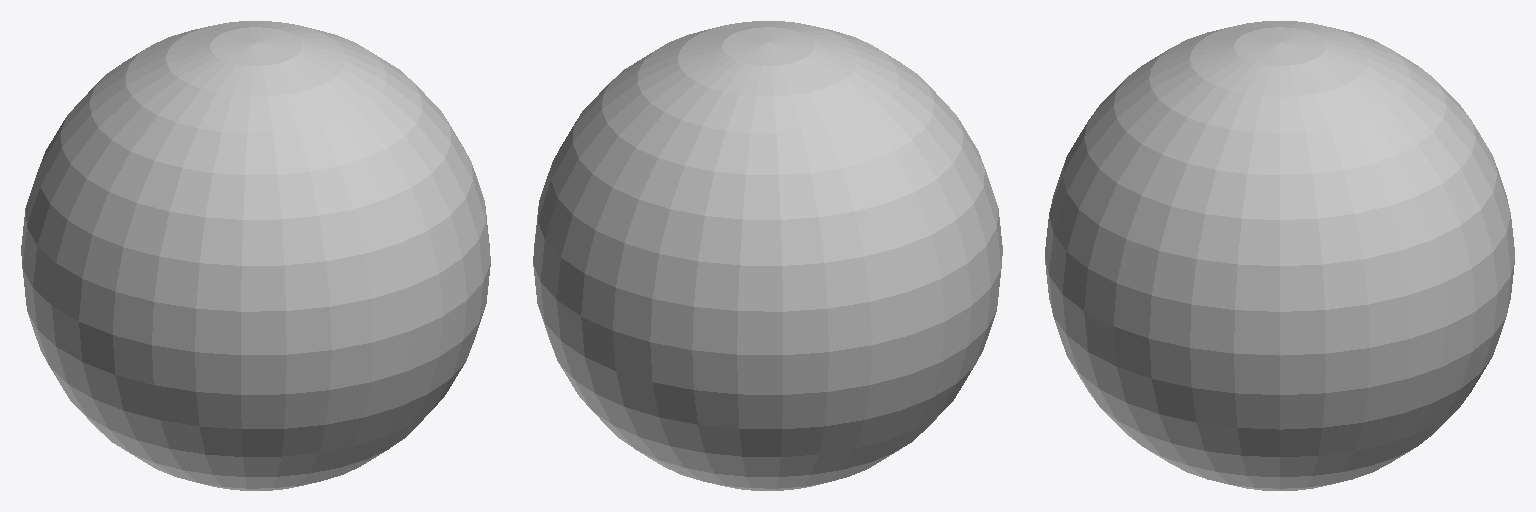
File: Mars.obj
3 renders of one model, left to right at view 1: azimuth 30°, elevation 25°; view 2: azimuth 150°, elevation 25°; view 3: azimuth 270°, elevation 25°, orthographic.
Parts seen in each view (by area): view 1: Sphere; view 2: Sphere; view 3: Sphere.
Part boxes in pixels (bbox=[...]): Sphere: bbox=[21, 21, 490, 490]; Sphere: bbox=[533, 21, 1002, 490]; Sphere: bbox=[1045, 21, 1514, 490].
Bounding box in the file's own units: 3.99 × 3.99 × 3.99.